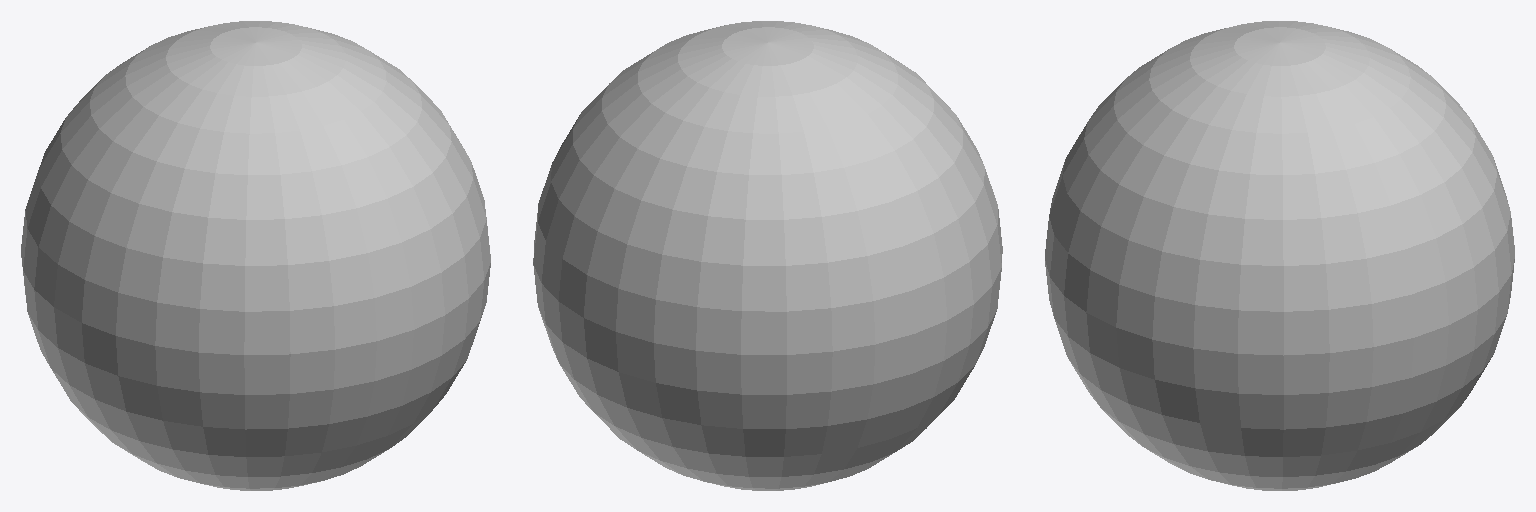
File: earth.obj
3 views of the same model, side by side, from view 1: azimuth 30°, elevation 25°; view 2: azimuth 150°, elevation 25°; view 3: azimuth 270°, elevation 25° (orthographic).
Parts seen in each view (by area): view 1: Earth_Sphere; view 2: Earth_Sphere; view 3: Earth_Sphere.
Part boxes in pixels (bbox=[...]): Earth_Sphere: bbox=[21, 21, 490, 490]; Earth_Sphere: bbox=[533, 21, 1002, 490]; Earth_Sphere: bbox=[1045, 21, 1514, 490].
Size of the model in its own units: 0.8999 by 0.9 by 0.8999.